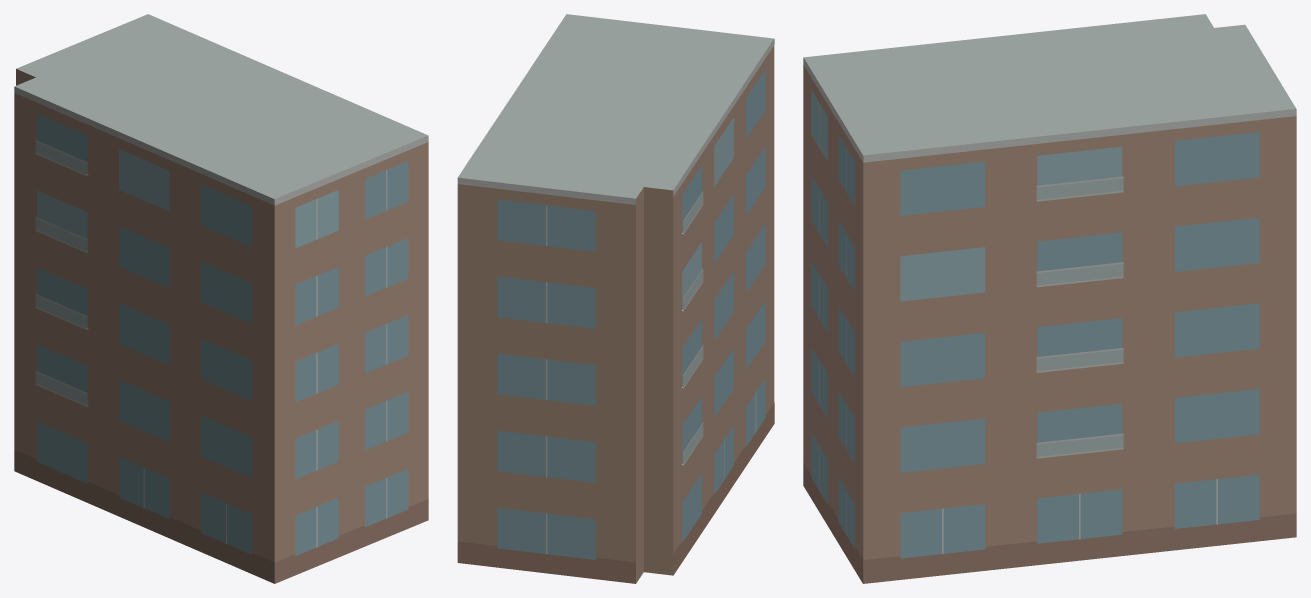
File: survey-upis-32687762.glb
3 renders of one model, left to right at view 1: azimuth 30°, elevation 25°; view 2: azimuth 150°, elevation 25°; view 3: azimuth 270°, elevation 25°, orthographic. The views are drawn at different scales.
Visible parts, largest first — view 1: survey-upis-32687762.tmp; view 2: survey-upis-32687762.tmp; view 3: survey-upis-32687762.tmp.
Part boxes in pixels (box(x1,y1,x2,y2)): survey-upis-32687762.tmp: box(14, 14, 428, 583); survey-upis-32687762.tmp: box(457, 14, 774, 583); survey-upis-32687762.tmp: box(803, 14, 1296, 583).
Bounding box in the file's own units: 10.43 × 14.7 × 15.35.
